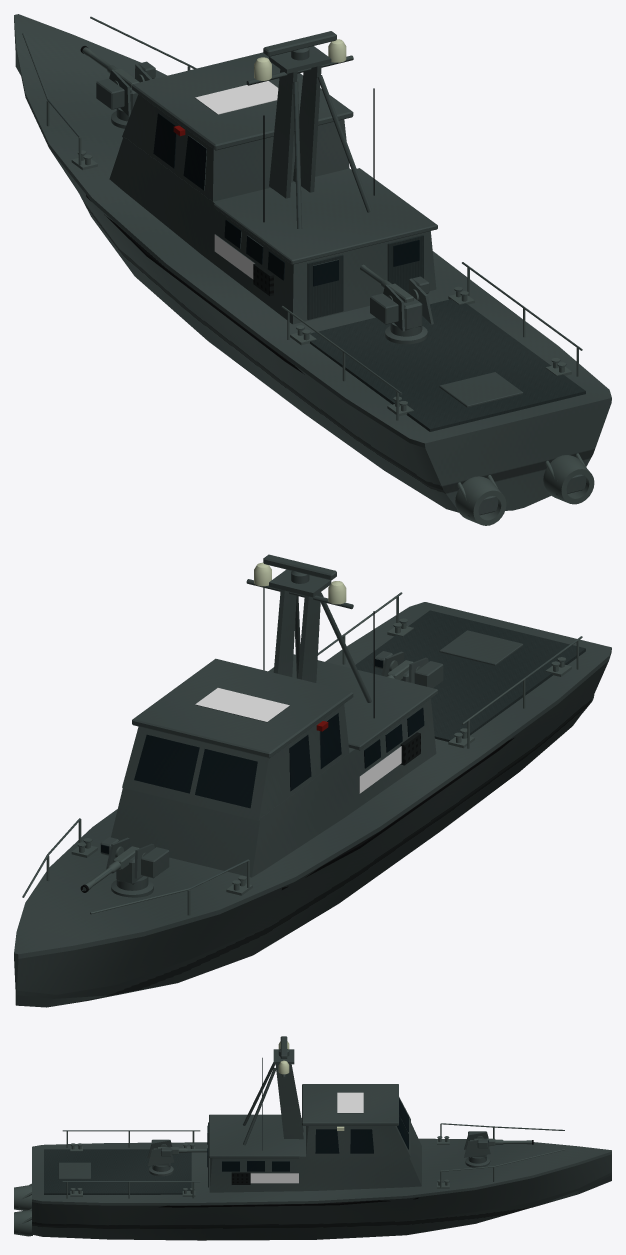
Rendered from patrol_boat.glb.
3 views of the same model, one above another, from view 1: azimuth 30°, elevation 25°; view 2: azimuth 150°, elevation 25°; view 3: azimuth 270°, elevation 25° (orthographic). The views are drawn at different scales.
Parts seen in each view (by area): view 1: hull, superstructure, deck, mast, propulsion, fittings, aft_turret, turret; view 2: hull, superstructure, deck, mast, fittings, turret, aft_turret, cannon; view 3: hull, superstructure, deck, mast, fittings, propulsion, aft_turret, turret.
Boxes of the visible parts, left/top/right/bottom form: hull: left=14, top=14, right=611, bottom=512; superstructure: left=109, top=52, right=437, bottom=324; deck: left=111, top=108, right=585, bottom=431; mast: left=173, top=31, right=374, bottom=228; propulsion: left=455, top=453, right=594, bottom=525; fittings: left=22, top=16, right=582, bottom=420; aft_turret: left=370, top=276, right=433, bottom=331; turret: left=96, top=61, right=155, bottom=116; hull: left=14, top=602, right=611, bottom=1007; superstructure: left=111, top=654, right=437, bottom=877; deck: left=111, top=610, right=585, bottom=897; mast: left=246, top=554, right=374, bottom=731; fittings: left=22, top=592, right=582, bottom=915; turret: left=100, top=837, right=169, bottom=884; aft_turret: left=374, top=651, right=443, bottom=687; cannon: left=80, top=846, right=139, bottom=892; hull: left=32, top=1138, right=611, bottom=1240; superstructure: left=207, top=1084, right=421, bottom=1192; deck: left=44, top=1149, right=490, bottom=1194; mast: left=243, top=1036, right=344, bottom=1150; fittings: left=62, top=1123, right=564, bottom=1198; propulsion: left=14, top=1183, right=32, bottom=1236; aft_turret: left=147, top=1139, right=173, bottom=1166; turret: left=464, top=1131, right=490, bottom=1158.
Bounding box in the file's own units: 6.25 × 8.74 × 26.08.
1 material, 1 textured.
